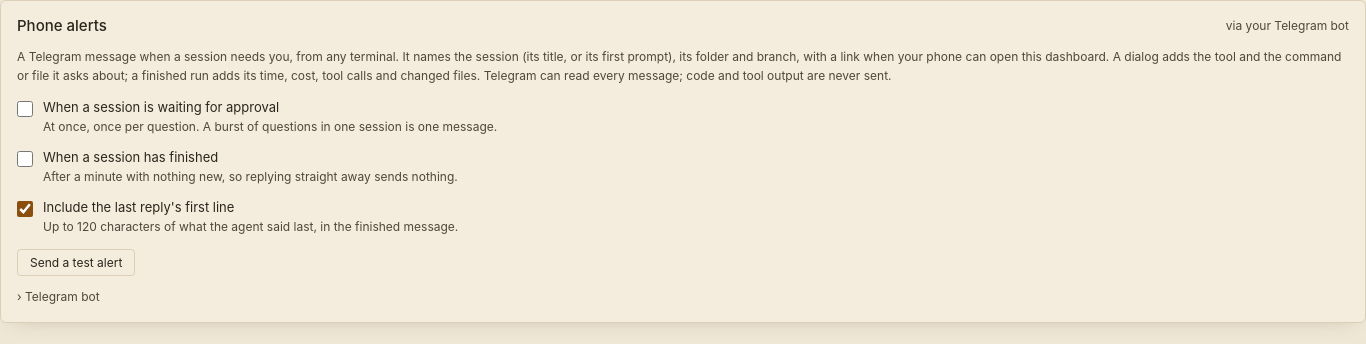
Test: PhoneAlerts › sends a test alert and shows Telegram’s refusal
Step 1. Click the button "Send a test alert" → [76, 262], box [17, 249, 135, 276]
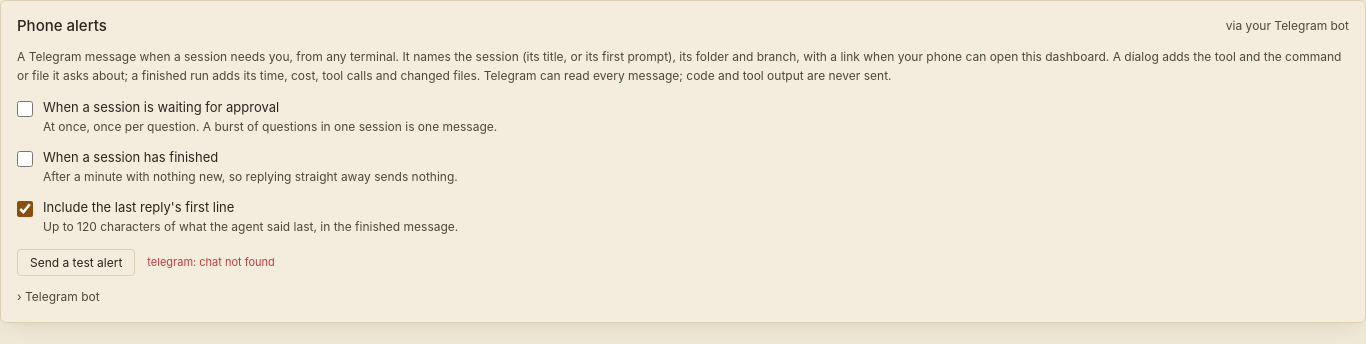
Check: the text "telegram: chat not found" is shown, box [147, 254, 275, 270]
